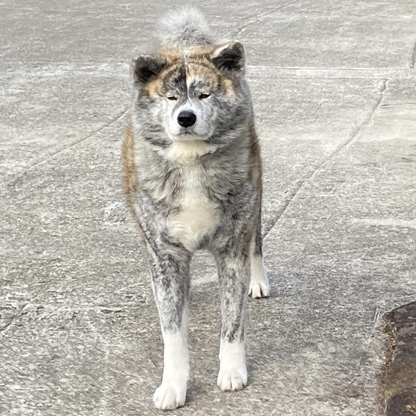akita: (117, 1, 277, 416)
